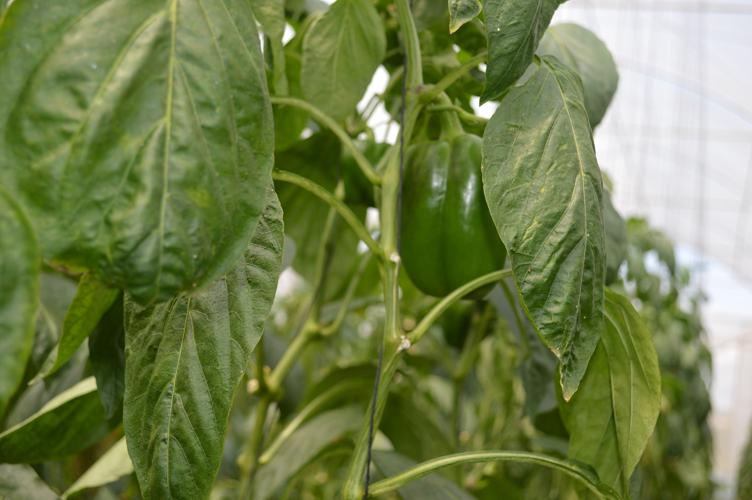BellPepper: (390, 135, 509, 298)
